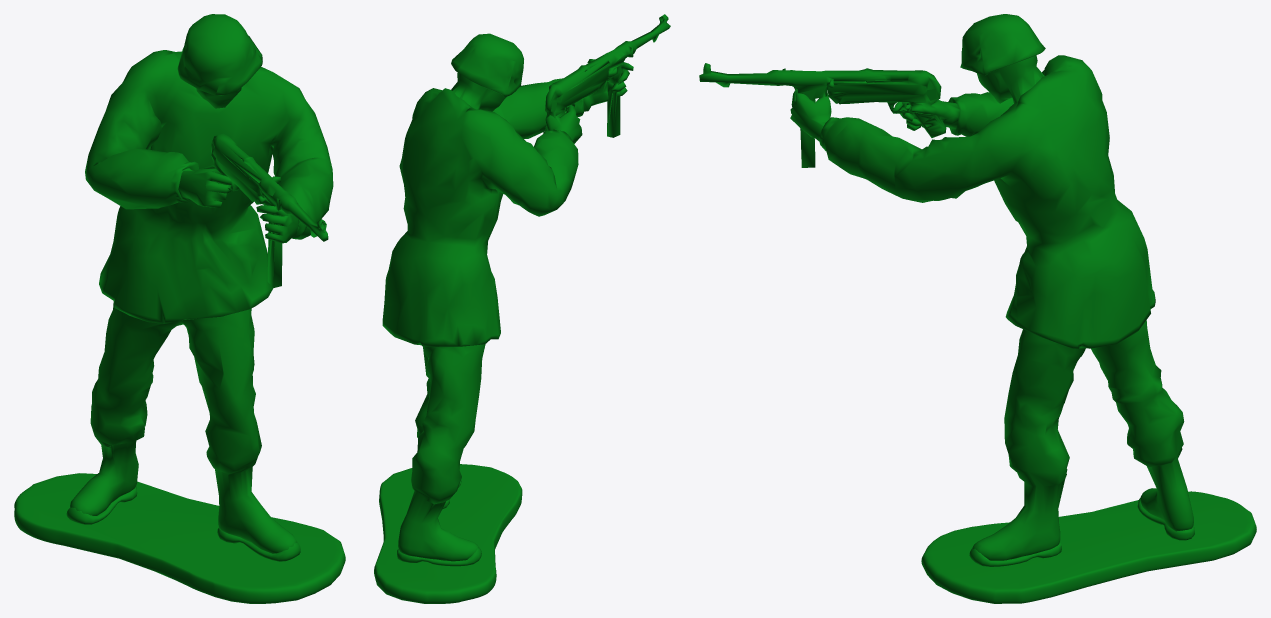
The model's file is soil.fbx.
3 renders of one model, left to right at view 1: azimuth 30°, elevation 25°; view 2: azimuth 150°, elevation 25°; view 3: azimuth 270°, elevation 25°, orthographic. The views are drawn at different scales.
Parts seen in each view (by area): view 1: BézierCurve; view 2: BézierCurve; view 3: BézierCurve.
Boxes of the visible parts, left/top/right/bottom form: BézierCurve: left=14, top=14, right=345, bottom=603; BézierCurve: left=374, top=14, right=670, bottom=603; BézierCurve: left=699, top=14, right=1256, bottom=603.
Size of the model in its own units: 73.3 by 174 by 165.
